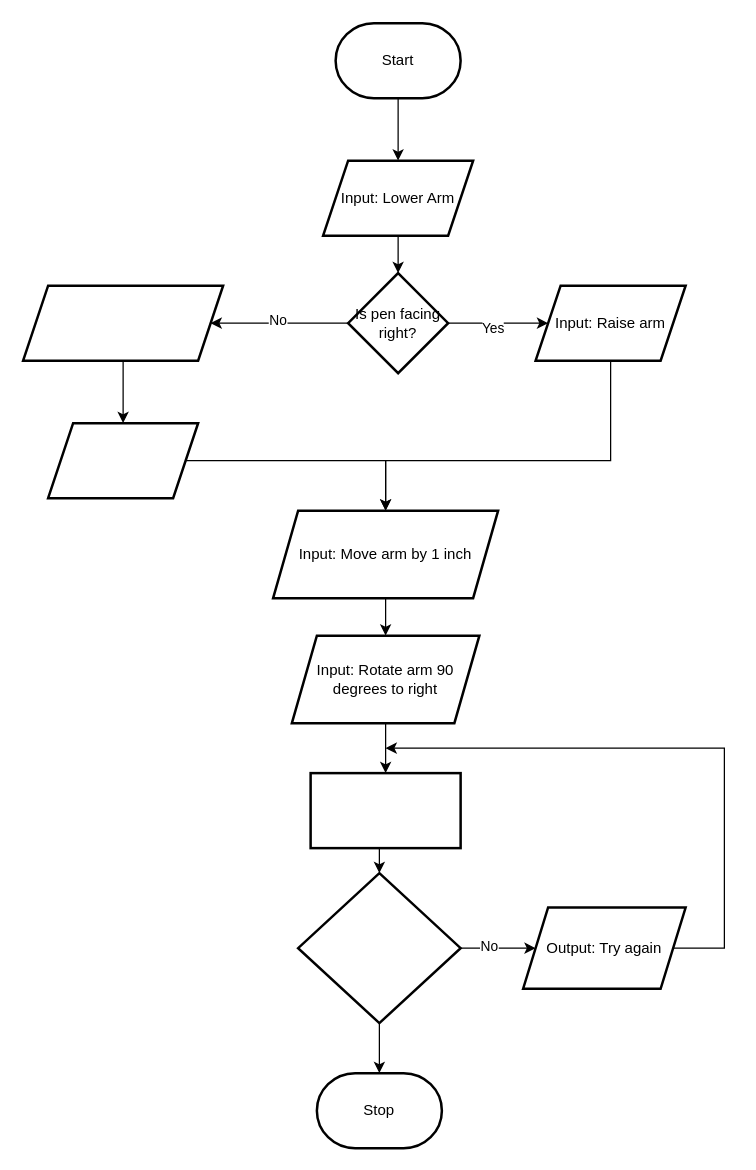
Image size: 756x1170. Some labels were removed from this diagram. Here are the shapes that lost their labels. From the top down, the centre of each, then its label:
pixel 122 322: Input: Rotate arm to face right
pixel 122 460: Input:Raise Arm
pixel 385 810: Draw circle clockwise from start where diameter =1 inch
pixel 378 947: Is Circle Drawn Clockwise?
